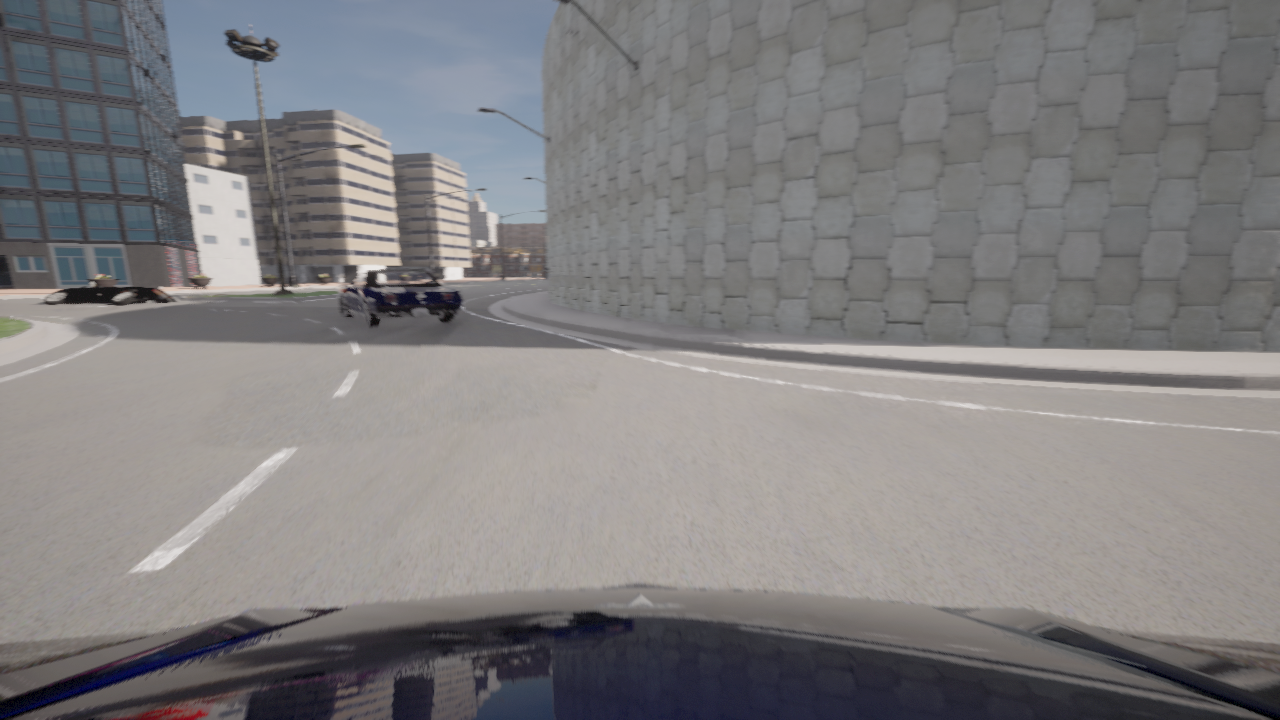cyclist: (0, 584, 1279, 719), (339, 270, 461, 327), (44, 282, 177, 304)
